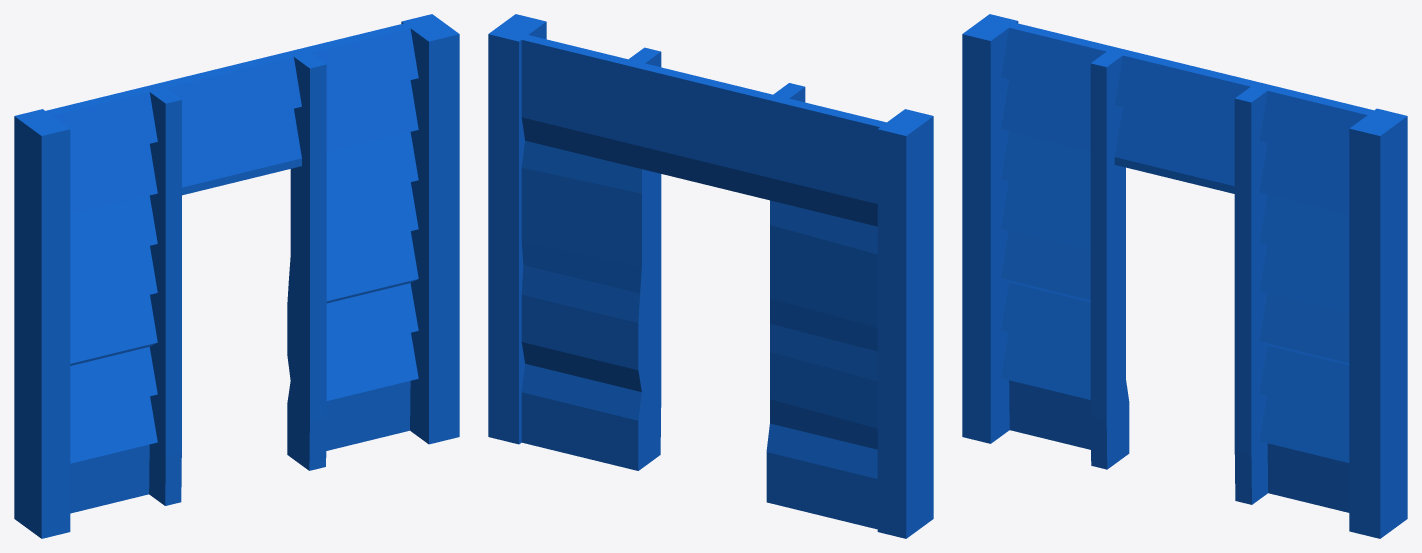
File: muur gvd.fbx
3 views of the same model, side by side, from view 1: azimuth 30°, elevation 25°; view 2: azimuth 150°, elevation 25°; view 3: azimuth 330°, elevation 25° (orthographic).
Parts seen in each view (by area): view 1: korte muur+post; view 2: korte muur+post; view 3: korte muur+post.
Part boxes in pixels (x1,y1,x2,y2): korte muur+post: (14,14,459,538); korte muur+post: (488,14,933,538); korte muur+post: (962,14,1407,538).
Size of the model in its own units: 305 by 280 by 34.73.
